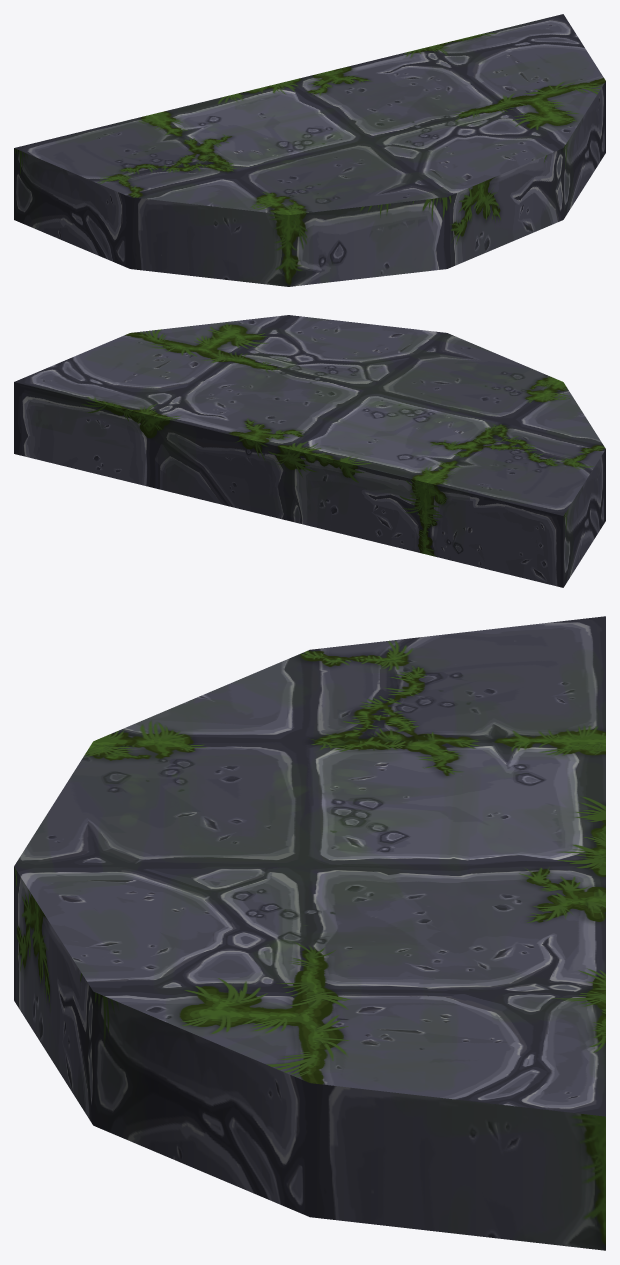
The model's file is MOD_Floor_01_E_convex_med_2_half.fbx.
3 views of the same model, one above another, from view 1: azimuth 30°, elevation 25°; view 2: azimuth 150°, elevation 25°; view 3: azimuth 270°, elevation 25° (orthographic). The views are drawn at different scales.
Parts seen in each view (by area): view 1: MOD_Floor_01_E_convex_med_2_half; view 2: MOD_Floor_01_E_convex_med_2_half; view 3: MOD_Floor_01_E_convex_med_2_half.
Part boxes in pixels (box(x1,y1,x2,y2)): MOD_Floor_01_E_convex_med_2_half: box(14, 14, 605, 286); MOD_Floor_01_E_convex_med_2_half: box(14, 315, 605, 587); MOD_Floor_01_E_convex_med_2_half: box(14, 616, 605, 1250).
Bounding box in the file's own units: 400 × 50 × 200.
